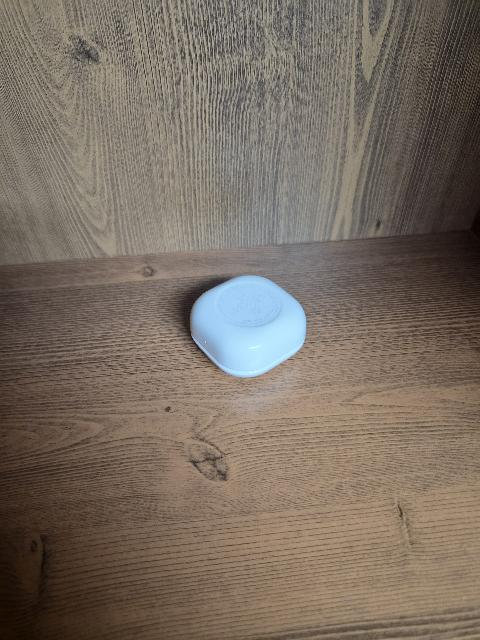earphone_case: (190, 275, 307, 378)
